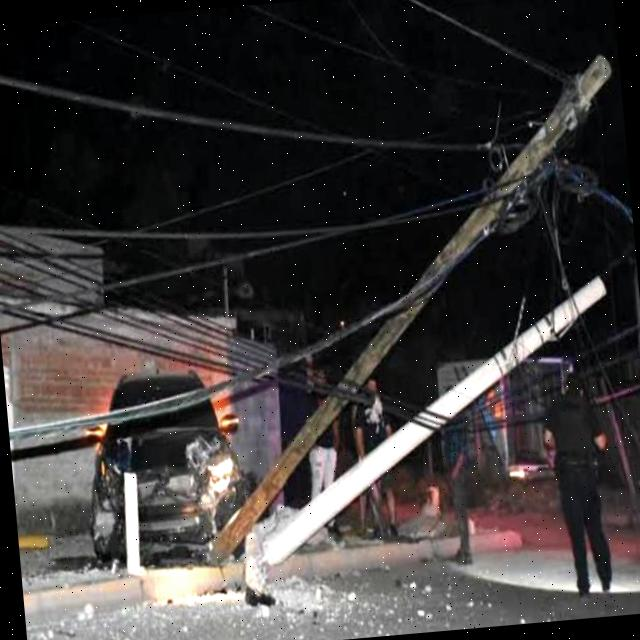Broken Pole: (204, 10, 630, 560), (257, 266, 609, 567)
